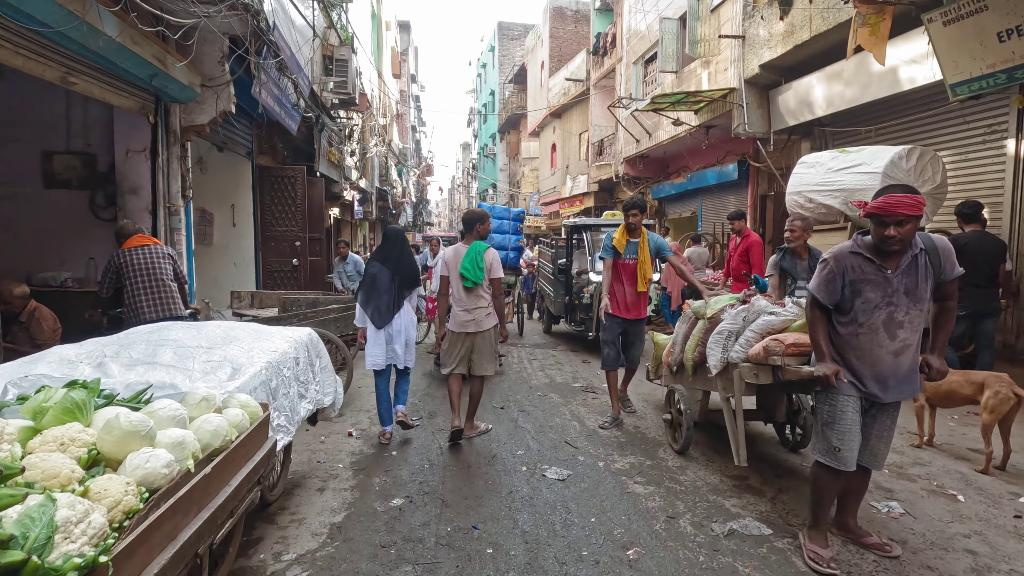garbage: (708, 513, 773, 539), (541, 457, 575, 487), (376, 496, 408, 518)
